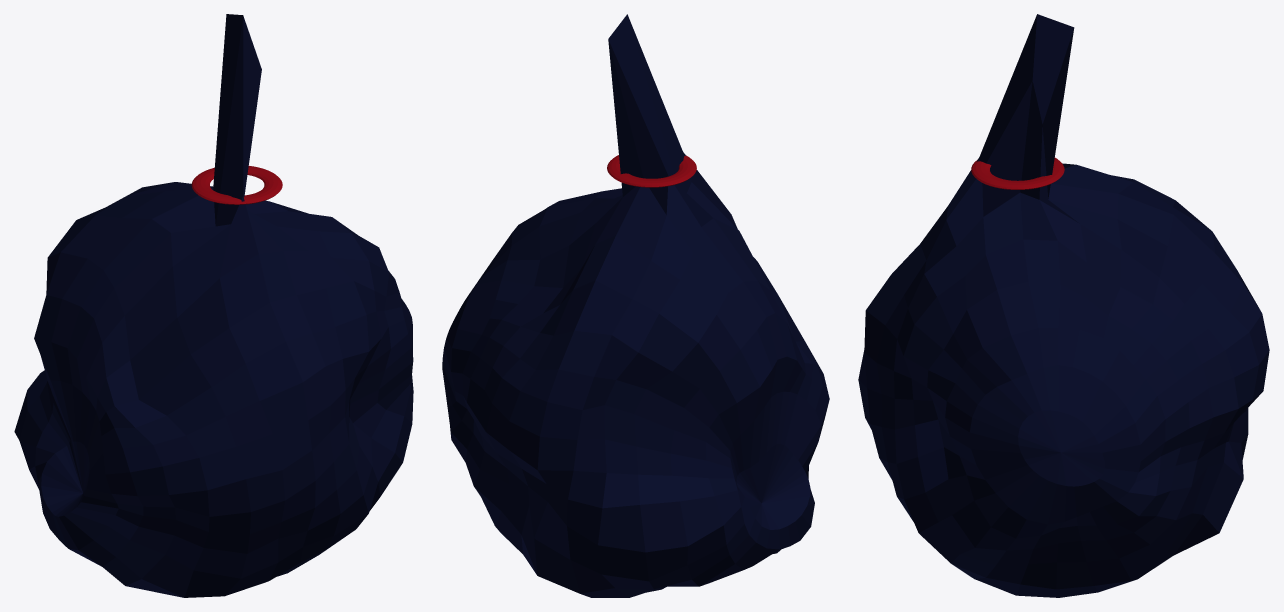
Rendered from SacoLixo4.fbx.
3 renders of one model, left to right at view 1: azimuth 30°, elevation 25°; view 2: azimuth 150°, elevation 25°; view 3: azimuth 270°, elevation 25°, orthographic. The views are drawn at different scales.
Visible parts, largest first — view 1: Sphere, Torus; view 2: Sphere, Torus; view 3: Sphere, Torus.
Part boxes in pixels (x1,y1,x2,y2): Sphere: (14, 14, 413, 597); Torus: (191, 166, 282, 204); Sphere: (442, 14, 829, 597); Torus: (607, 155, 696, 187); Sphere: (858, 14, 1269, 597); Torus: (971, 157, 1064, 189).
Size of the model in its own units: 235 by 361 by 234.
Materials: 2 (1 with a texture image).
